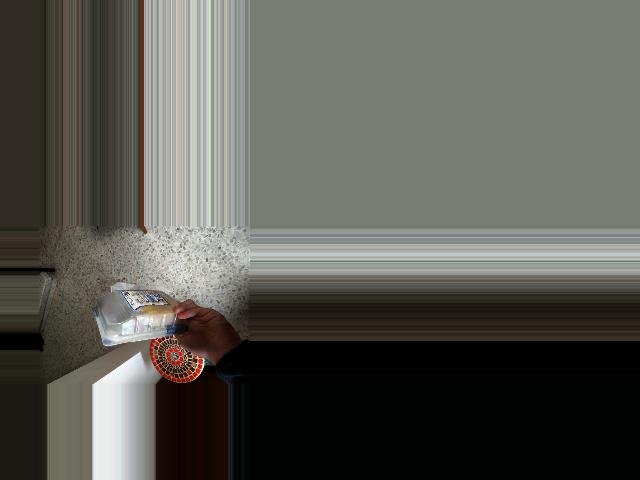cheese: (92, 289, 185, 341)
